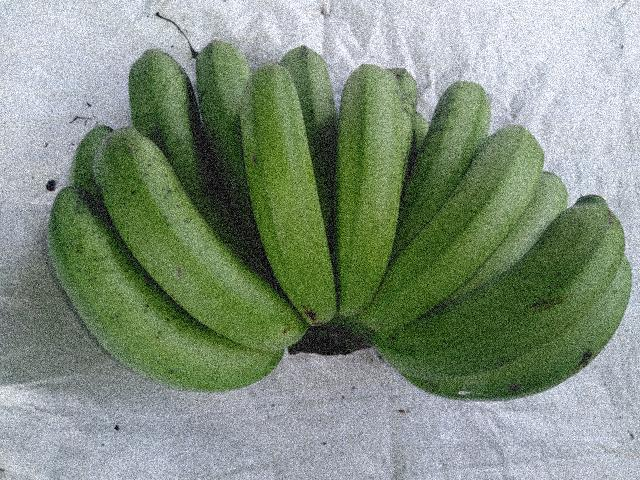freshunripe: (233, 50, 342, 330), (324, 47, 405, 340)
unripe: (393, 184, 637, 379), (30, 202, 268, 401), (87, 121, 284, 356), (382, 110, 554, 328)
